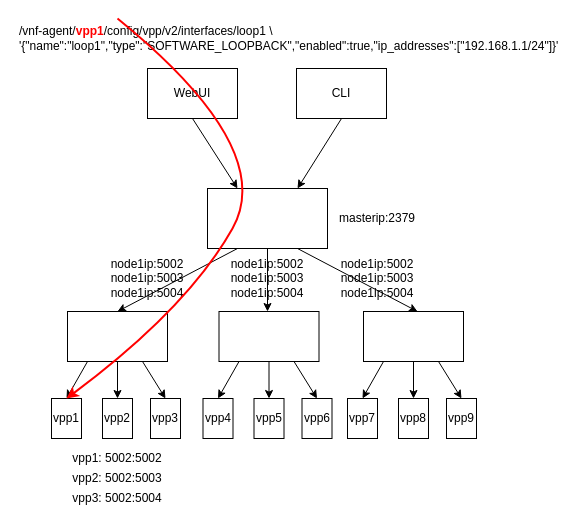
Some shapes in this 584 by 525 pixel diagram are drawn without their labels. Here are the shapes that lost their labels. From the top down, the centre of each, then its label:
[267,218]: master
[117,336]: node1
[268,336]: node2
[413,336]: node3
